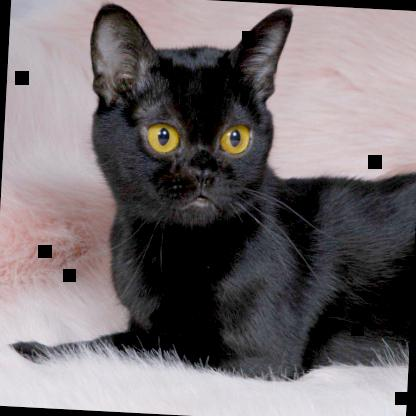cat: (12, 0, 415, 388)
